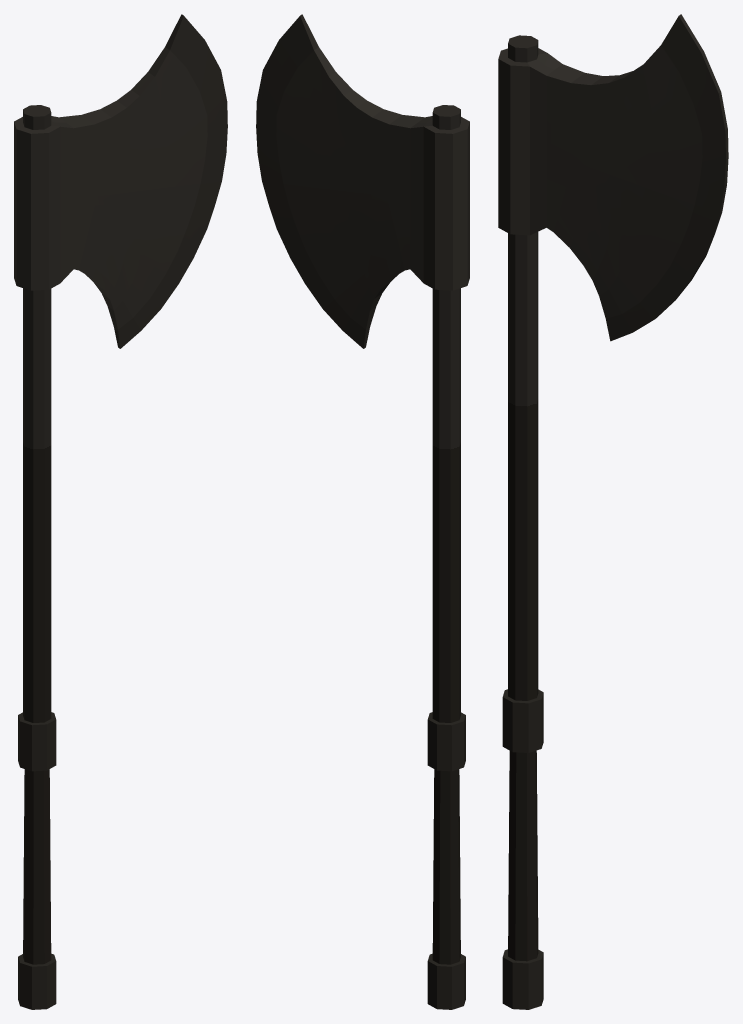
File: shop-item-1012.glb
3 views of the same model, side by side, from view 1: azimuth 30°, elevation 25°; view 2: azimuth 150°, elevation 25°; view 3: azimuth 330°, elevation 25° (orthographic). The views are drawn at different scales.
Parts seen in each view (by area): view 1: two_handed_axe_2; view 2: two_handed_axe_2; view 3: two_handed_axe_2.
Boxes of the visible parts, bbox=[...] form: two_handed_axe_2: bbox=[14, 14, 227, 1009]; two_handed_axe_2: bbox=[256, 14, 469, 1009]; two_handed_axe_2: bbox=[498, 14, 728, 1009].
Bounding box in the file's own units: 0.4562 × 1.97 × 0.0897.
1 material, 1 textured.
